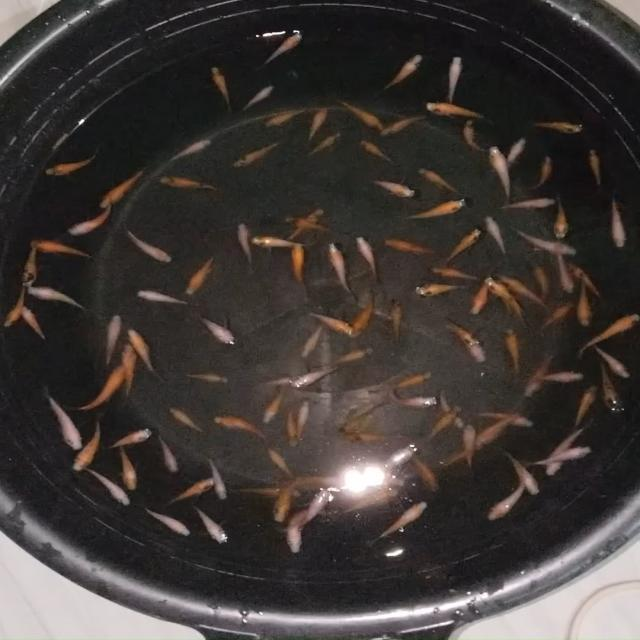nila: (74, 360, 130, 413), (574, 313, 640, 355), (96, 164, 152, 210), (545, 420, 587, 480), (44, 389, 82, 452), (374, 500, 428, 542), (482, 278, 530, 325), (482, 475, 530, 522), (66, 196, 118, 237), (511, 228, 582, 258), (288, 504, 324, 562), (375, 51, 425, 92), (590, 342, 638, 384), (28, 281, 86, 315), (397, 198, 467, 226), (124, 225, 174, 264), (70, 416, 103, 474), (501, 275, 552, 312), (446, 320, 486, 367), (210, 413, 272, 443), (228, 138, 284, 171), (84, 466, 130, 506), (529, 443, 597, 470), (478, 412, 521, 454), (160, 134, 213, 168), (166, 474, 216, 510), (128, 326, 159, 384), (325, 242, 357, 298), (419, 407, 463, 447), (296, 486, 342, 524), (30, 236, 97, 262), (42, 149, 104, 177), (336, 400, 384, 436), (347, 290, 379, 343), (501, 449, 536, 497), (184, 252, 220, 298), (262, 30, 303, 70), (486, 144, 514, 202), (336, 492, 394, 520), (440, 229, 482, 267), (598, 360, 626, 416), (196, 311, 236, 350), (339, 94, 382, 130), (522, 353, 556, 398), (522, 260, 558, 302), (356, 236, 386, 286), (2, 284, 30, 336), (424, 100, 496, 120), (568, 261, 604, 301), (414, 166, 461, 196), (146, 508, 193, 538), (131, 286, 195, 308), (232, 218, 258, 272), (328, 344, 378, 372), (380, 237, 440, 260), (115, 439, 141, 492), (289, 364, 342, 390), (194, 506, 230, 544), (483, 214, 511, 262), (363, 177, 420, 200), (437, 444, 482, 473), (101, 312, 122, 374), (288, 204, 324, 240), (207, 66, 235, 112), (282, 212, 338, 235), (304, 130, 346, 160), (412, 452, 441, 495), (158, 173, 223, 192), (572, 273, 594, 329), (165, 404, 202, 437), (436, 390, 466, 430), (573, 384, 598, 432), (374, 116, 428, 138), (536, 303, 572, 336), (471, 274, 498, 317), (427, 266, 485, 286), (272, 478, 297, 524), (310, 310, 354, 336), (302, 318, 328, 361), (289, 239, 310, 292), (477, 407, 542, 424), (238, 84, 274, 114), (24, 306, 52, 344), (248, 232, 302, 251), (120, 342, 138, 399), (207, 456, 230, 500), (608, 198, 626, 254), (110, 428, 152, 452), (386, 371, 434, 392), (412, 281, 467, 299), (293, 470, 340, 491), (526, 121, 584, 138), (156, 436, 180, 477), (358, 140, 394, 167), (448, 316, 478, 348), (263, 386, 287, 426), (232, 487, 304, 500), (494, 198, 556, 213), (20, 242, 40, 288), (304, 105, 326, 146), (507, 294, 532, 330), (262, 106, 304, 127), (556, 255, 578, 295), (504, 328, 524, 372), (552, 194, 570, 242), (184, 368, 232, 386), (388, 393, 442, 409), (340, 434, 412, 446), (462, 119, 486, 154), (266, 446, 294, 476), (256, 374, 306, 390), (389, 294, 404, 346), (283, 407, 301, 448), (588, 148, 606, 188), (448, 55, 462, 106), (534, 155, 554, 190), (297, 396, 311, 442), (464, 423, 477, 471), (508, 135, 527, 166), (539, 370, 587, 382)
